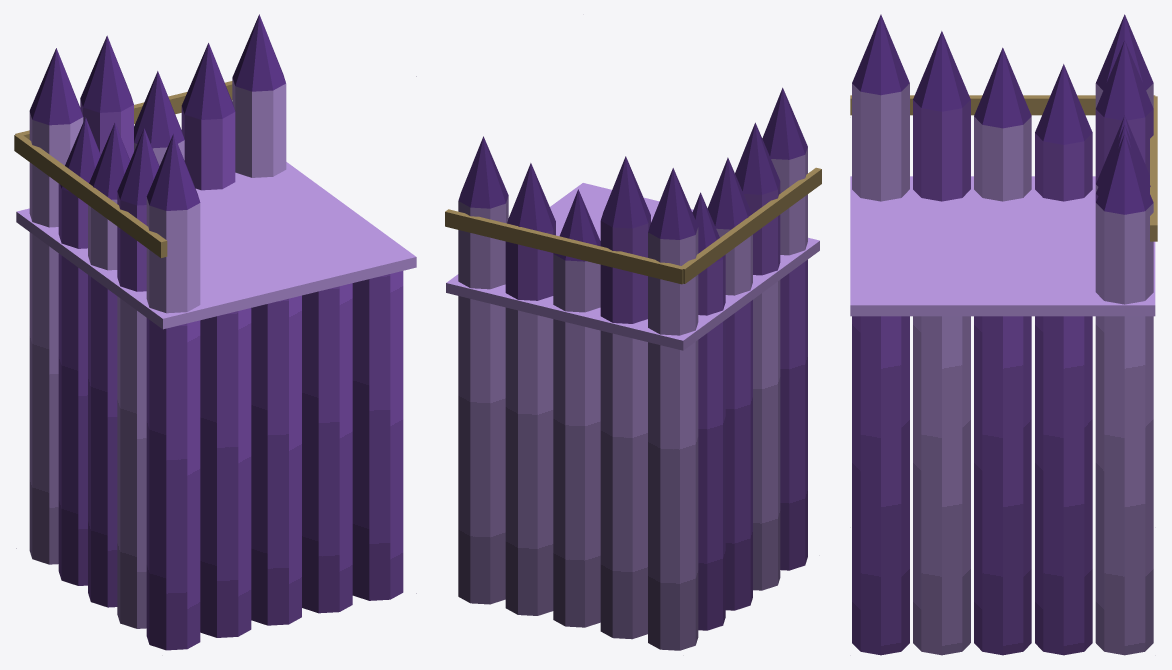
File: perimeter_wall_crystal_f6.glb
3 views of the same model, side by side, from view 1: azimuth 30°, elevation 25°; view 2: azimuth 150°, elevation 25°; view 3: azimuth 270°, elevation 25° (orthographic). The views are drawn at different scales.
Bounding box in the file's own units: 2.01 × 3.9 × 2.01.
1 material, 1 textured.
